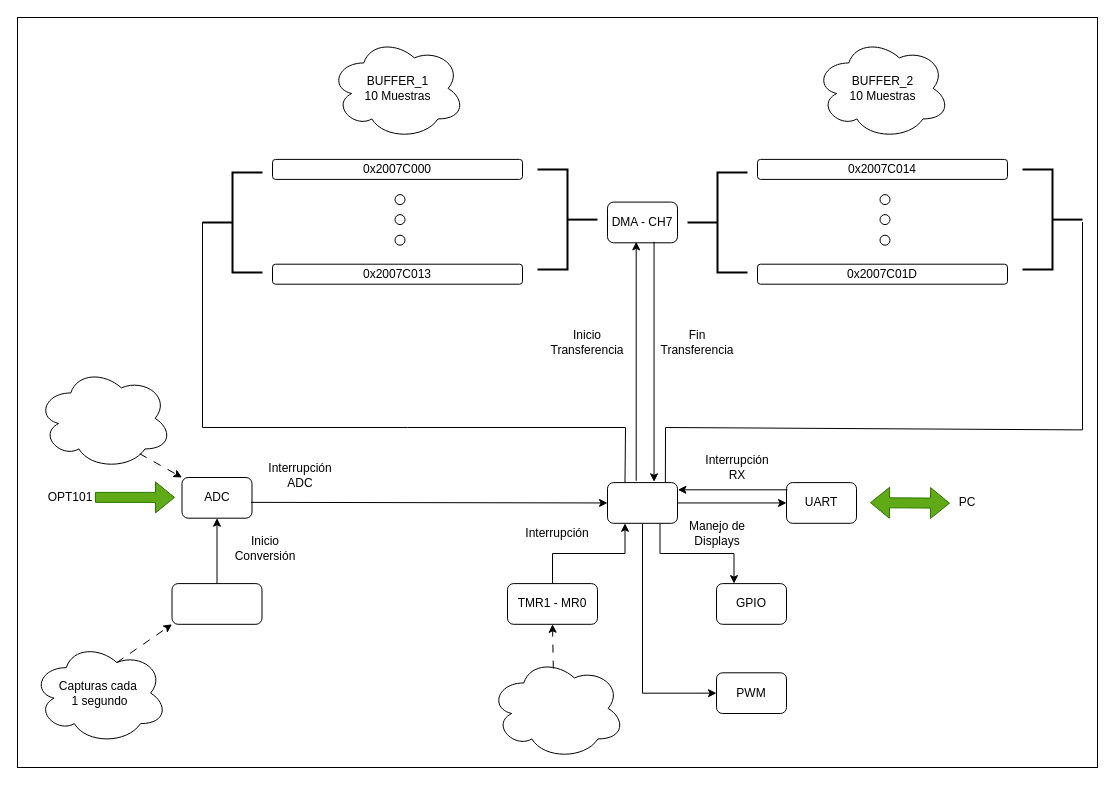
This 1115x785 diagram has some shape labels left out. Each missing label, with the centre of its shape:
"CORE" goes at pixel 642 502.
"Fmuestreo 200KHz" goes at pixel 104 417.
"Interrupciones cada 1 mili segundo" goes at pixel 557 707.
"TMR0 - MR1" goes at pixel 216 603.
